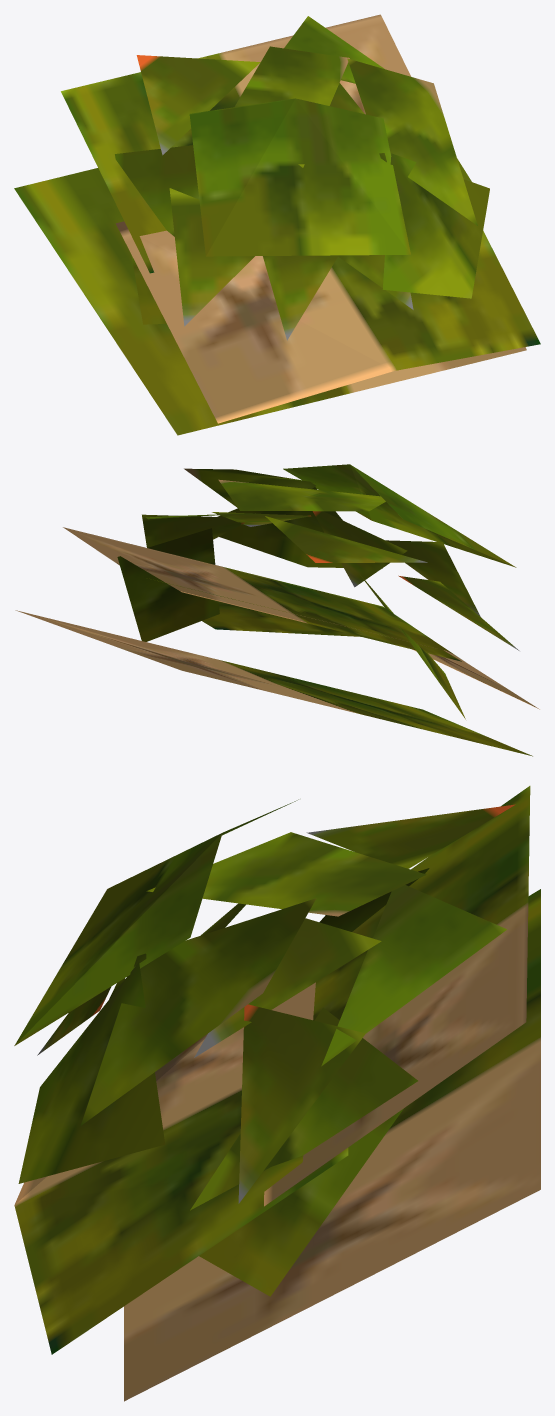
File: fg_bushC_2_bl.dae
3 views of the same model, one above another, from view 1: azimuth 30°, elevation 25°; view 2: azimuth 150°, elevation 25°; view 3: azimuth 270°, elevation 25° (orthographic). The views are drawn at different scales.
Visible parts, largest first — view 1: fg_bushC_2_bl; view 2: fg_bushC_2_bl; view 3: fg_bushC_2_bl.
Part boxes in pixels (box(x1,y1,x2,y2)): fg_bushC_2_bl: box(14, 14, 540, 435); fg_bushC_2_bl: box(15, 464, 539, 756); fg_bushC_2_bl: box(14, 786, 540, 1401).
Size of the model in its own units: 47.83 by 31.21 by 35.4.
Materials: 1 (1 with a texture image).
